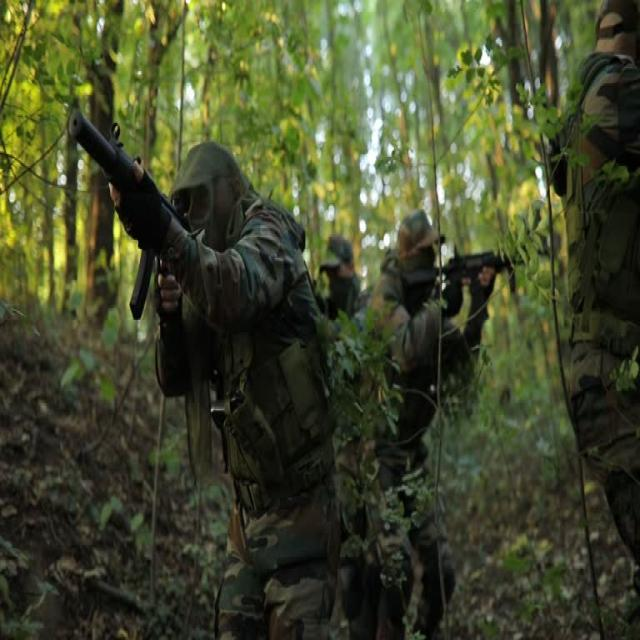Forest: (0, 0, 640, 640)
Militant: (113, 81, 350, 640), (340, 162, 498, 640)
